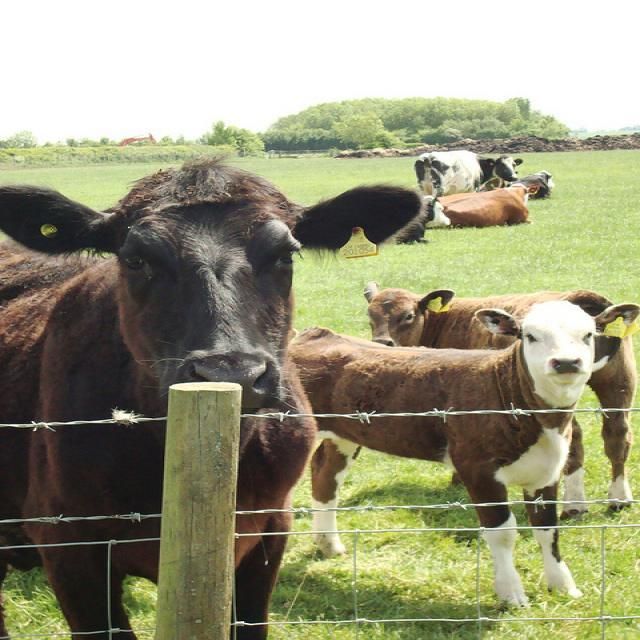cow: (0, 162, 420, 632), (281, 298, 639, 608), (359, 273, 639, 503), (411, 149, 521, 196), (438, 181, 538, 225), (377, 193, 451, 246), (515, 170, 552, 197)
